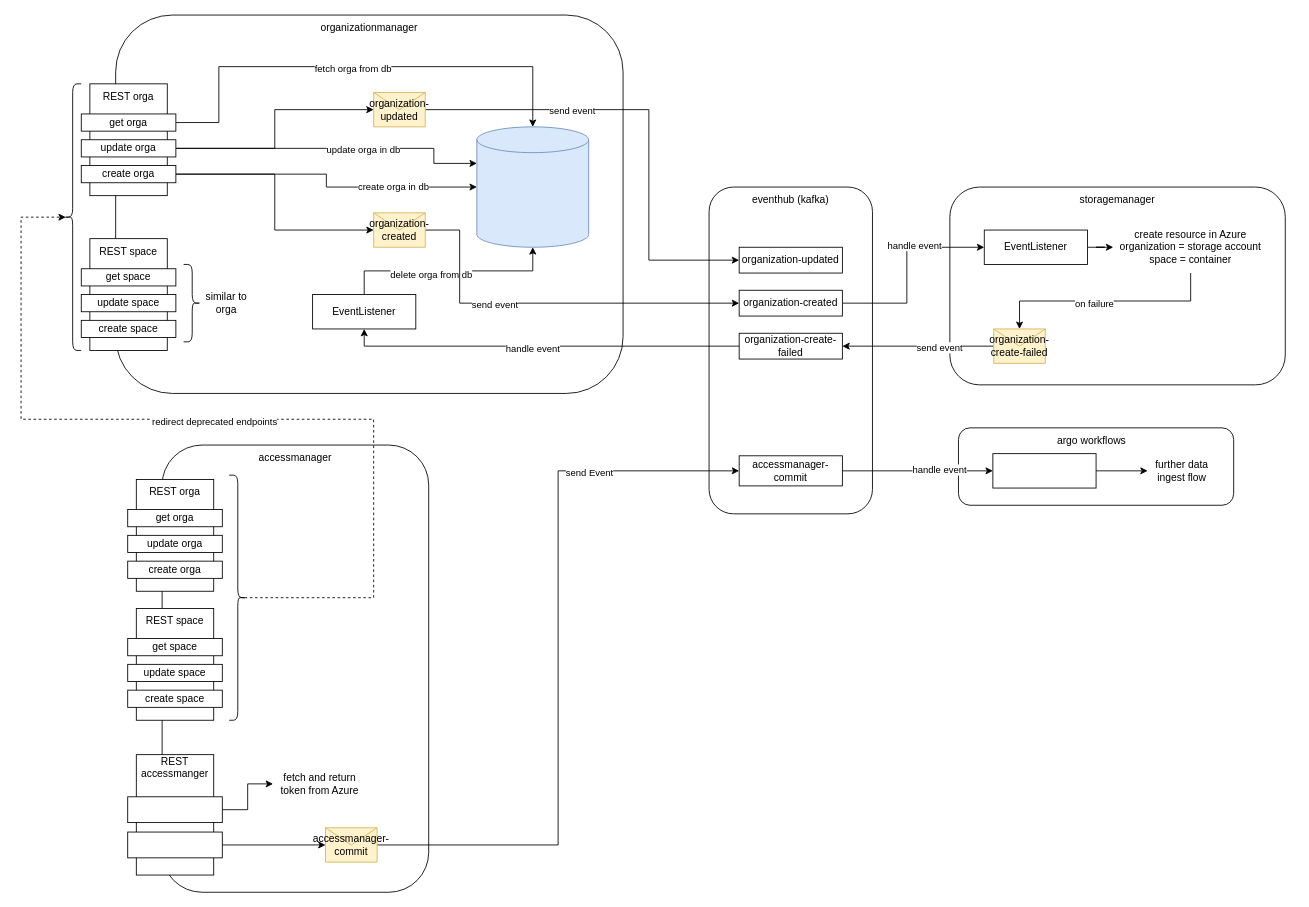
Some shapes in this 1309 by 907 pixel diagram are drawn without their labels. Here are the shapes that lost their labels. From the top down, the box of each, then its label:
(476, 126, 589, 247): DB organizationmanager
(992, 453, 1096, 488): ingest sensor
(127, 796, 222, 823): get token (read, upload, delete)
(127, 831, 222, 858): commit (after upload)
